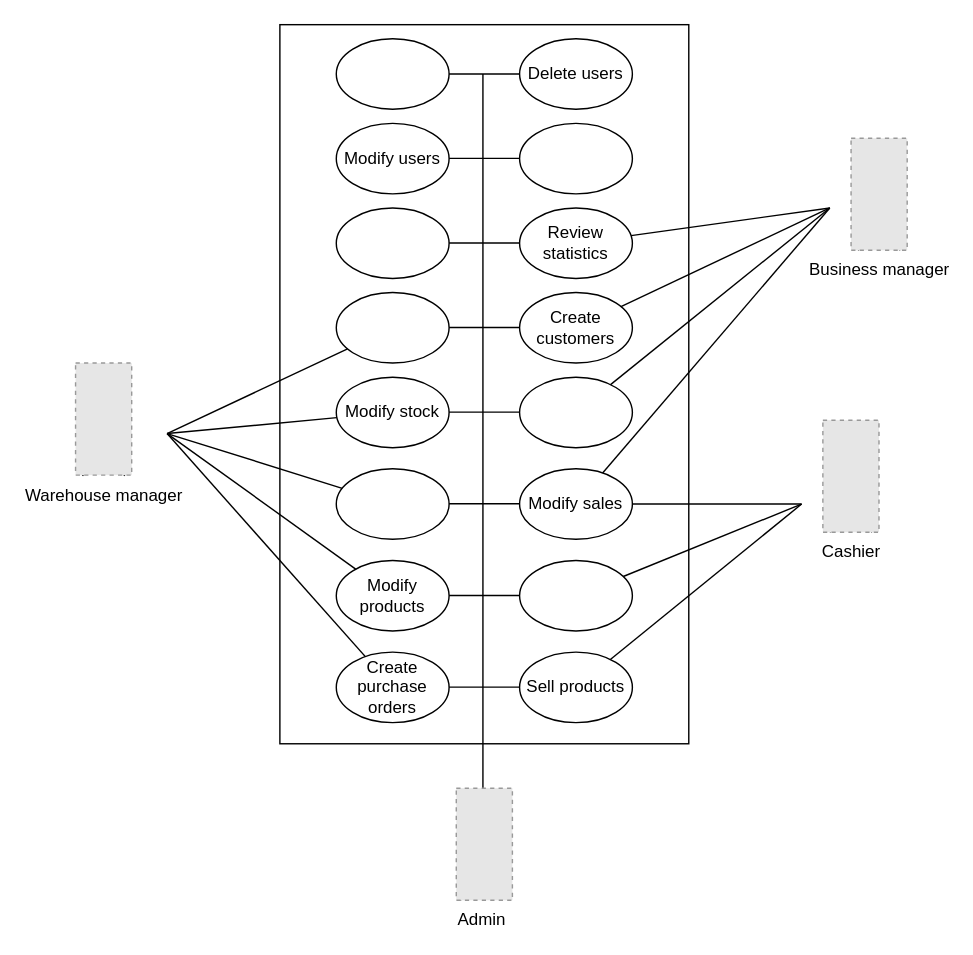
Some shapes in this 973 by 955 pixel diagram are drawn without their labels. Grey dashed boxes stand in for pictures. The shapes that lost their labels are listed below. From the top down, each one's box as (x1, y1, x2, y2) in pixels, then its label:
(335, 37, 449, 109): Create users
(518, 122, 632, 194): Delete customers
(335, 207, 449, 278): Delete products
(335, 291, 449, 363): Add stock
(518, 376, 632, 448): Modify customers
(335, 467, 449, 539): Create products
(518, 559, 632, 631): Sell on credit
